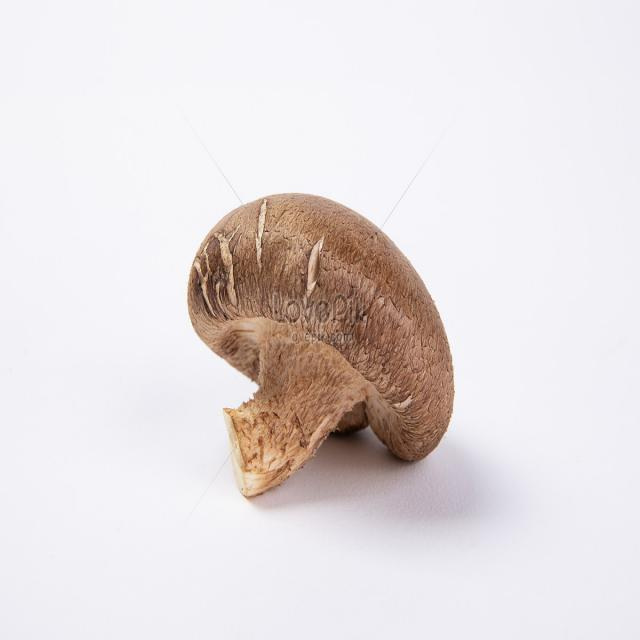Mushroom: (180, 179, 467, 531)
